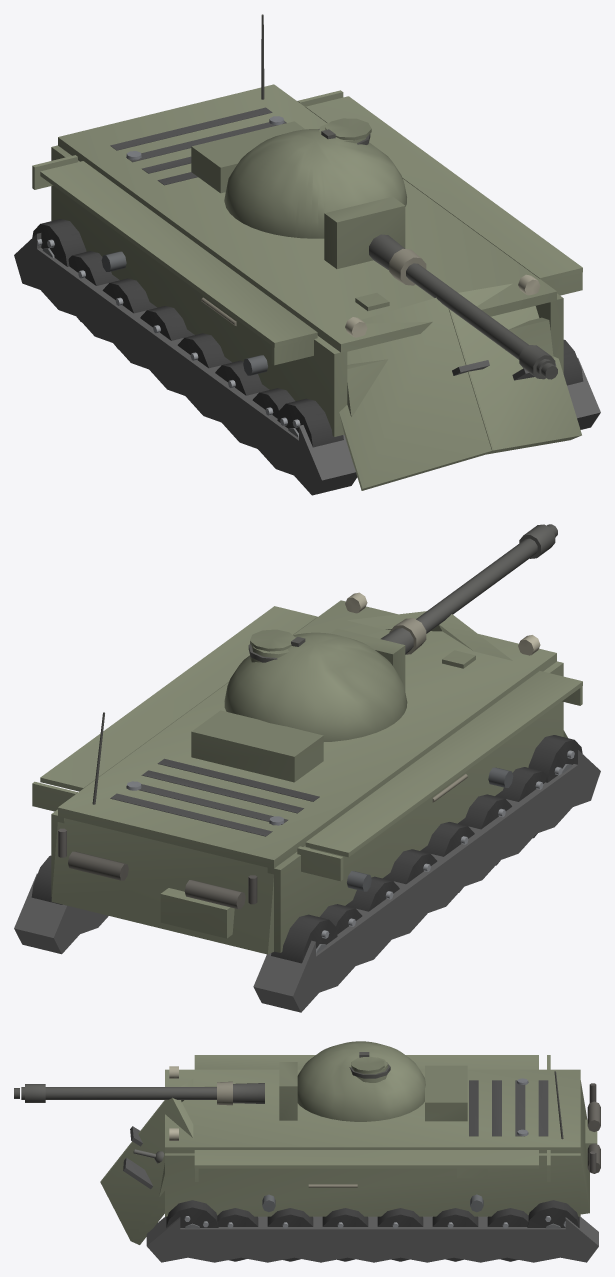
3 renders of one model, top to bottom at view 1: azimuth 30°, elevation 25°; view 2: azimuth 150°, elevation 25°; view 3: azimuth 270°, elevation 25°, orthographic. The views are drawn at different scales.
Parts seen in each view (by area): view 1: hullTop, hullSide, glacis, tracks, turretRear, barrel, turretFront, mantlet, turretSide, lowerPlate, wheel6, wheel7 (+8 smaller); view 2: hullTop, hullSide, tracks, hullRear, turretSide, turretRear, barrel, glacis, wheel7, wheel6, turretRoof, mantlet (+7 smaller); view 3: hullSide, hullTop, tracks, glacis, turretSide, barrel, turretRear, hullRear, turretFront, wheel15, wheel14, mantlet (+7 smaller).
Boxes of the visible parts, x1,y1,x2,y2 form: hullTop: [58, 84, 556, 352]; hullSide: [32, 90, 582, 436]; glacis: [339, 283, 581, 490]; tracks: [14, 233, 600, 495]; turretRear: [191, 121, 326, 238]; barrel: [369, 234, 557, 379]; turretFront: [295, 140, 401, 238]; mantlet: [324, 196, 405, 268]; turretSide: [224, 129, 406, 206]; lowerPlate: [347, 317, 553, 417]; wheel6: [277, 398, 343, 447]; wheel7: [32, 219, 86, 266]; hullTop: [58, 600, 556, 868]; hullSide: [32, 592, 582, 952]; tracks: [14, 749, 600, 1012]; hullRear: [51, 712, 275, 954]; turretSide: [224, 633, 376, 741]; turretRear: [191, 640, 407, 782]; barrel: [381, 524, 557, 654]; glacis: [347, 611, 567, 737]; wheel7: [271, 914, 337, 963]; wheel6: [528, 735, 582, 782]; turretRoof: [248, 629, 305, 662]; mantlet: [330, 628, 405, 690]; hullSide: [165, 1055, 580, 1216]; hullTop: [165, 1069, 580, 1153]; tracks: [146, 1194, 598, 1262]; glacis: [100, 1079, 216, 1244]; turretSide: [311, 1042, 425, 1121]; barrel: [14, 1081, 264, 1105]; turretRear: [310, 1041, 467, 1121]; hullRear: [554, 1071, 600, 1214]; turretFront: [297, 1046, 360, 1112]; wheel15: [527, 1200, 579, 1228]; wheel14: [166, 1200, 218, 1228]; mantlet: [279, 1062, 297, 1120].
Bounding box in the file's own units: 4.28 × 3.09 × 9.6.
